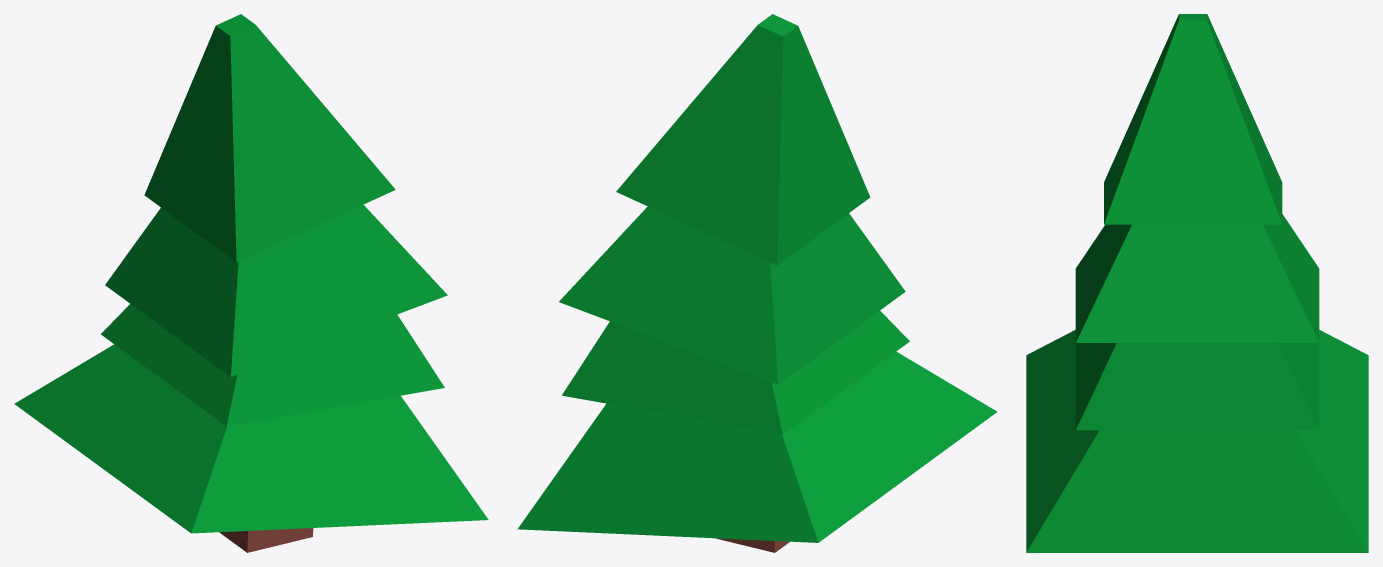
The model's file is Tree 1.fbx.
3 views of the same model, side by side, from view 1: azimuth 30°, elevation 25°; view 2: azimuth 150°, elevation 25°; view 3: azimuth 270°, elevation 25° (orthographic). The views are drawn at different scales.
Parts seen in each view (by area): view 1: Tree 1; view 2: Tree 1; view 3: Tree 1.
Boxes of the visible parts, x1=… form: Tree 1: x1=14, y1=14, x2=488, y2=552; Tree 1: x1=518, y1=14, x2=997, y2=552; Tree 1: x1=1026, y1=14, x2=1368, y2=552.
Size of the model in its own units: 139 by 228 by 143.
Materials: 1 (1 with a texture image).
